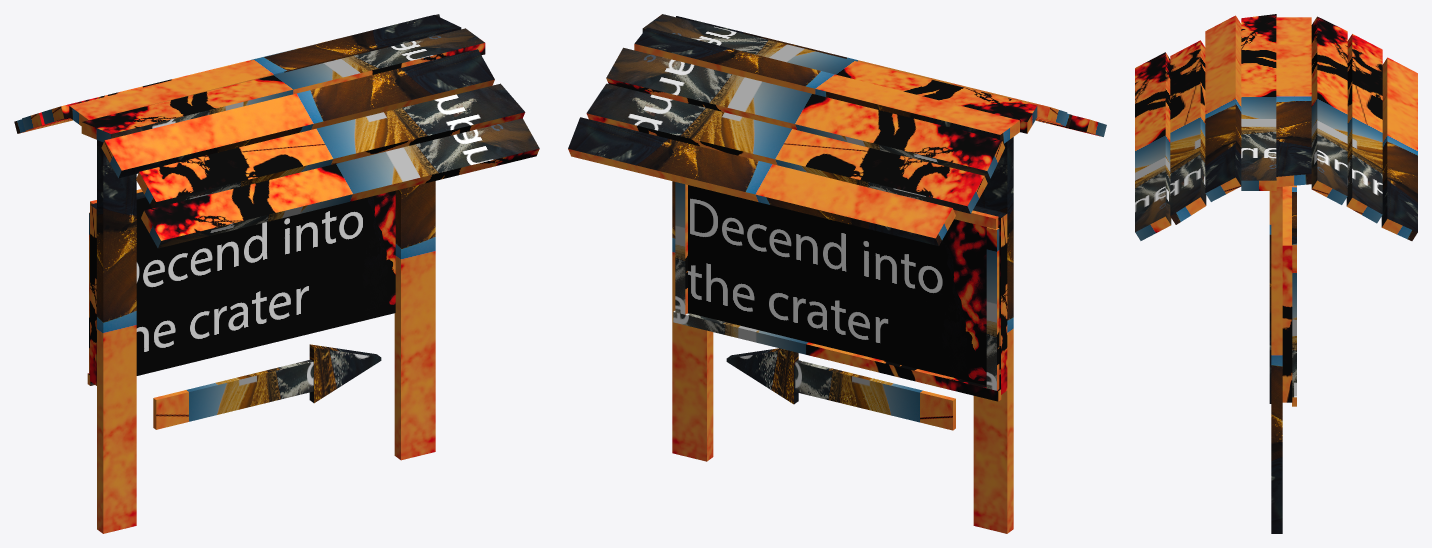
File: Sign_Camp_GEO.fbx
3 views of the same model, side by side, from view 1: azimuth 30°, elevation 25°; view 2: azimuth 150°, elevation 25°; view 3: azimuth 270°, elevation 25° (orthographic). The views are drawn at different scales.
Parts seen in each view (by area): view 1: sign, woodBoard_ (×2), woodBoard_4 (×2), woodBoard_6, woodBoard_5, woodBoard_2, woodBoard_3, woodBoard_10, woodBoard_11; view 2: sign, woodBoard_ (×2), woodBoard_4 (×2), woodBoard_6, woodBoard_5, woodBoard_2, woodBoard_3, woodBoard_10, woodBoard_1, woodBoard_11, woodBoard_9, woodBoard_8; view 3: woodBoard_4 (×2), woodBoard_6 (×2), woodBoard_5 (×2), woodBoard_ (×2), woodBoard_3, sign, woodBoard_8, woodBoard_2, woodBoard_7.
Boxes of the visible parts, <box> form: sign: <box>90,190,395,385</box>; woodBoard_ (×2): <box>69,15,485,142</box>; woodBoard_4 (×2): <box>41,14,494,178</box>; woodBoard_6: <box>141,118,539,248</box>; woodBoard_5: <box>136,83,525,208</box>; woodBoard_2: <box>97,140,136,533</box>; woodBoard_3: <box>394,181,435,460</box>; woodBoard_10: <box>153,359,313,429</box>; woodBoard_11: <box>309,344,381,403</box>; sign: <box>688,185,1007,394</box>; woodBoard_ (×2): <box>634,14,1037,143</box>; woodBoard_4 (×2): <box>606,16,1067,178</box>; woodBoard_6: <box>568,117,955,245</box>; woodBoard_5: <box>586,83,987,213</box>; woodBoard_2: <box>973,137,1013,533</box>; woodBoard_3: <box>672,181,713,461</box>; woodBoard_10: <box>795,360,955,430</box>; woodBoard_1: <box>673,311,1001,401</box>; woodBoard_11: <box>726,348,798,404</box>; woodBoard_9: <box>986,227,999,390</box>; woodBoard_8: <box>675,182,687,314</box>; woodBoard_4 (×2): <box>1205,15,1347,204</box>; woodBoard_6 (×2): <box>1135,52,1417,240</box>; woodBoard_5 (×2): <box>1170,34,1382,224</box>; woodBoard_ (×2): <box>1241,14,1311,190</box>; woodBoard_3: <box>1271,186,1282,533</box>; sign: <box>1282,186,1292,402</box>; woodBoard_8: <box>1292,254,1296,396</box>; woodBoard_2: <box>1269,191,1271,403</box>; woodBoard_7: <box>1292,185,1296,254</box>.
Size of the model in its own units: 574 by 594 by 412.
